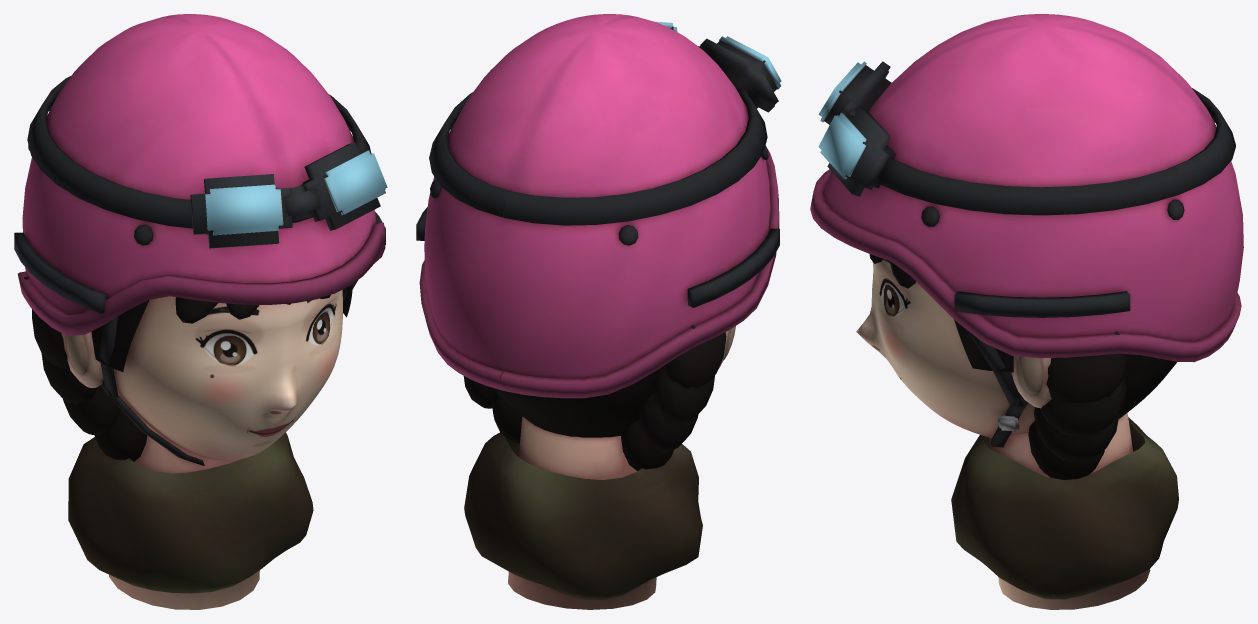
The model's file is cabeza-misil-f.glb.
3 views of the same model, side by side, from view 1: azimuth 30°, elevation 25°; view 2: azimuth 150°, elevation 25°; view 3: azimuth 270°, elevation 25° (orthographic). The views are drawn at different scales.
Visible parts, largest first — view 1: h_Head; view 2: h_Head; view 3: h_Head.
Part boxes in pixels (x1,y1,x2,y2): h_Head: (14,14,387,609); h_Head: (416,14,781,609); h_Head: (810,14,1243,609).
Bounding box in the file's own units: 0.2232 × 0.3849 × 0.2709.
1 material, 1 textured.
